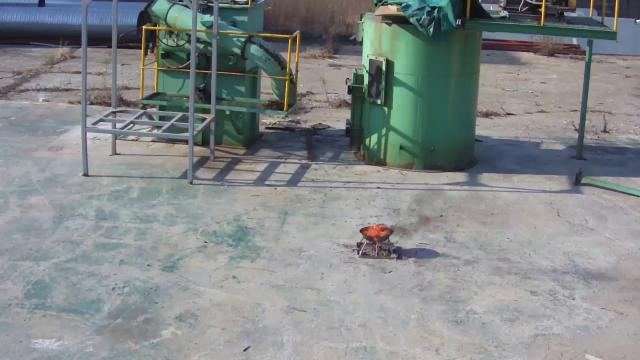fire: (362, 224, 392, 236)
smoke: (388, 186, 458, 234)
